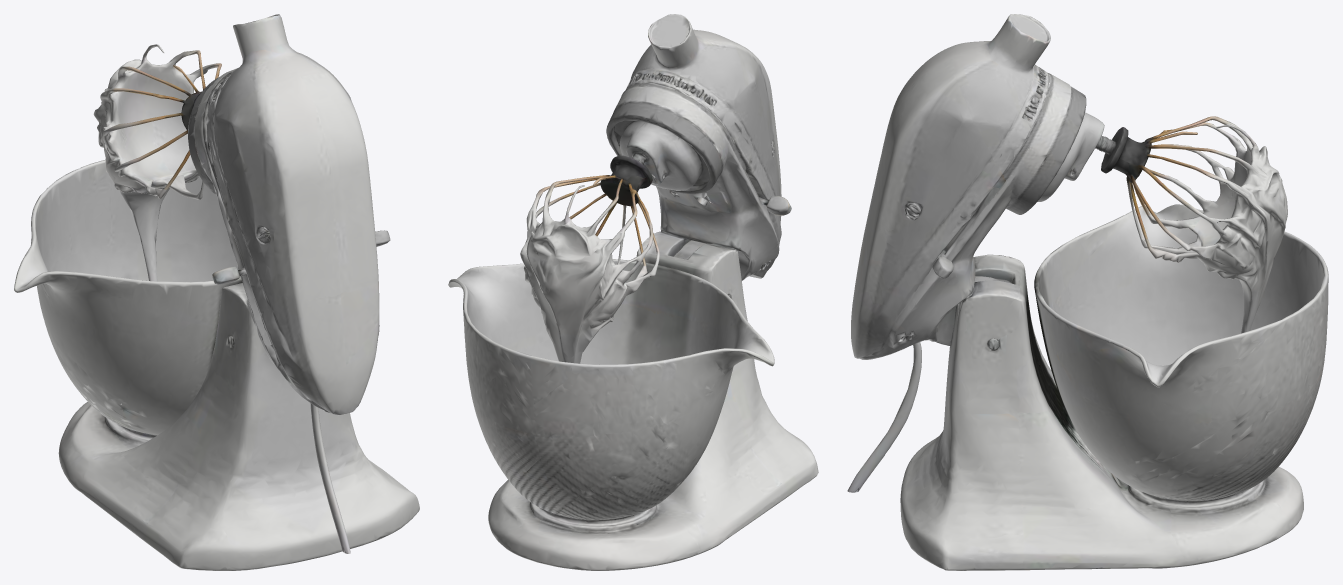
The model's file is batidora.glb.
3 renders of one model, left to right at view 1: azimuth 30°, elevation 25°; view 2: azimuth 150°, elevation 25°; view 3: azimuth 270°, elevation 25°, orthographic. The views are drawn at different scales.
Parts seen in each view (by area): view 1: tripo_node_aa234053-1abd-4e64-856c-a0bb51e47682; view 2: tripo_node_aa234053-1abd-4e64-856c-a0bb51e47682; view 3: tripo_node_aa234053-1abd-4e64-856c-a0bb51e47682.
Part boxes in pixels (box(x1,y1,x2,y2)): tripo_node_aa234053-1abd-4e64-856c-a0bb51e47682: box(14, 14, 419, 570); tripo_node_aa234053-1abd-4e64-856c-a0bb51e47682: box(448, 14, 818, 570); tripo_node_aa234053-1abd-4e64-856c-a0bb51e47682: box(847, 14, 1328, 570).
Size of the model in its own units: 0.7266 by 0.979 by 0.8571.
Materials: 1 (1 with a texture image).
